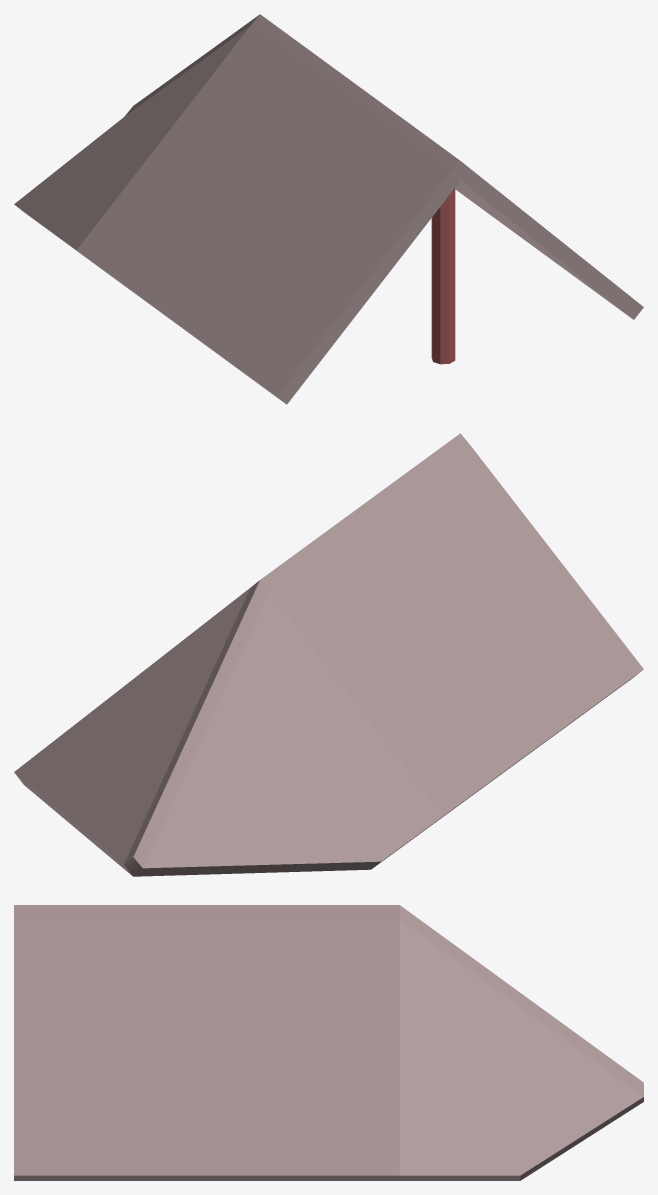
File: Tent_Mesh.fbx
The picture shows the model from 3 angles, top to bottom: view 1: azimuth 30°, elevation 25°; view 2: azimuth 150°, elevation 25°; view 3: azimuth 270°, elevation 25°; orthographic projection. The views are drawn at different scales.
Visible parts, largest first — view 1: Tent_Mesh; view 2: Tent_Mesh; view 3: Tent_Mesh.
Boxes of the visible parts, bbox=[...] form: Tent_Mesh: bbox=[14, 14, 643, 404]; Tent_Mesh: bbox=[14, 433, 643, 876]; Tent_Mesh: bbox=[14, 905, 643, 1180].
Bounding box in the file's own units: 8.03 × 4.43 × 12.4.
